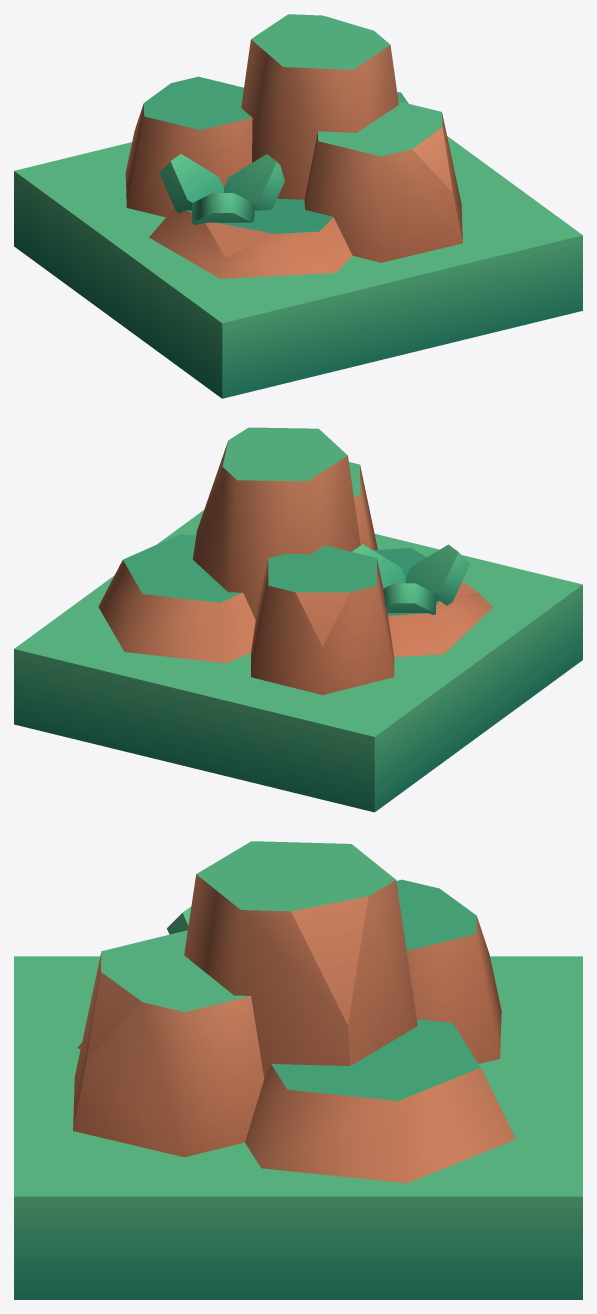
The model's file is tile-rock.gltf.
3 renders of one model, top to bottom at view 1: azimuth 30°, elevation 25°; view 2: azimuth 150°, elevation 25°; view 3: azimuth 270°, elevation 25°, orthographic. The views are drawn at different scales.
Visible parts, largest first — view 1: tile-rock; view 2: tile-rock; view 3: tile-rock.
Boxes of the visible parts, x1,y1,x2,y2 form: tile-rock: (14, 14, 582, 398); tile-rock: (14, 427, 582, 812); tile-rock: (14, 841, 582, 1299).
Bounding box in the file's own units: 1 × 0.6145 × 1.
Materials: 1 (1 with a texture image).
